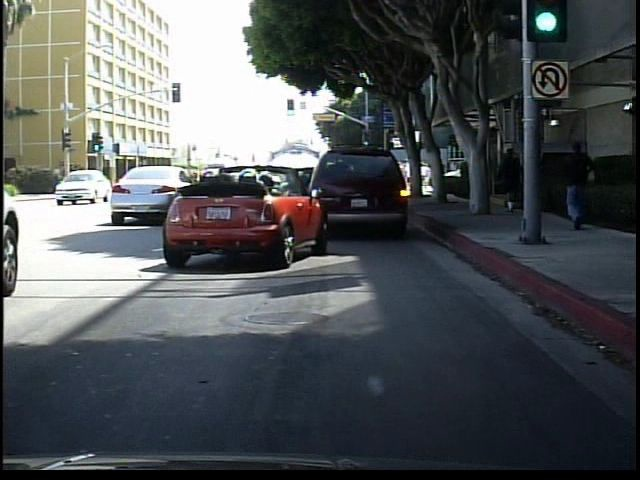person: (556, 133, 604, 240), (496, 140, 524, 213)
